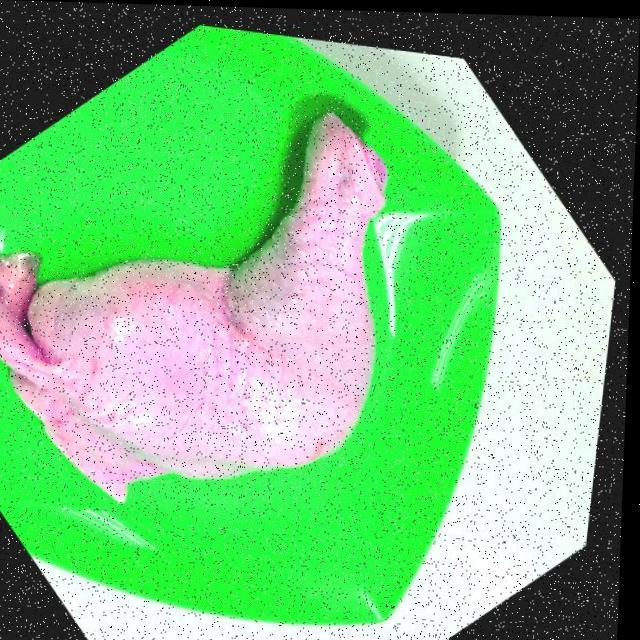quater: (0, 99, 393, 472)
